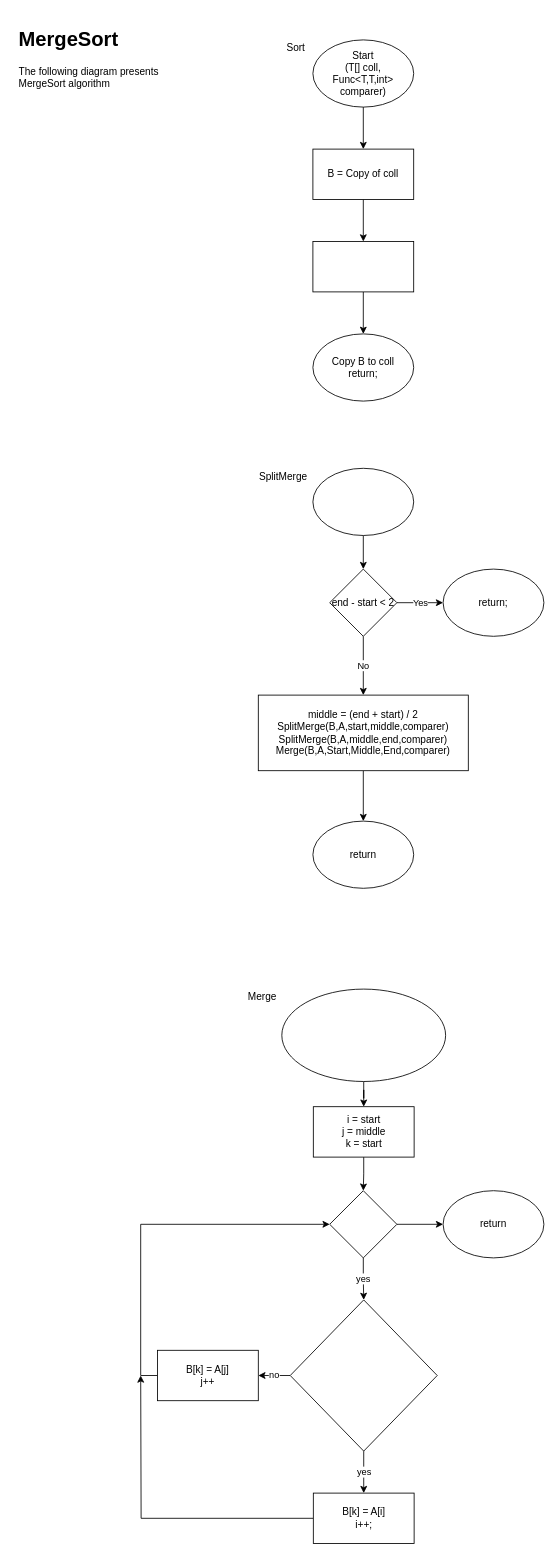
The diagram is 559 pixels wide and 1558 high, and some of its shapes have lost their labels. The centre of each missing label's shape, as x and y in pixels:
"i < middle && (j >= end || A[i] <= A[j])" belongs at point (363, 1375).
"k < end" belongs at point (363, 1224).
"SplitMerge(col, B, 0, coll.Length, comparer)" belongs at point (363, 266).
"Start (T[] A, T[] B, start, end, Comparer)" belongs at point (363, 501).
"Start (T[] A, T[] B, start,middle,end,comparer)" belongs at point (363, 1035).
